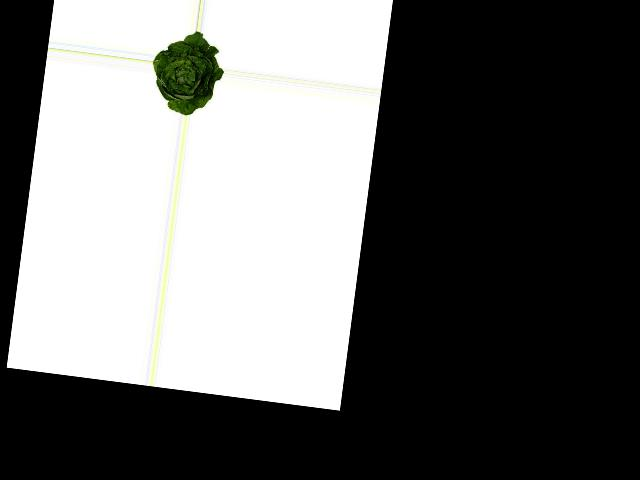lettuce: (147, 28, 228, 119)
